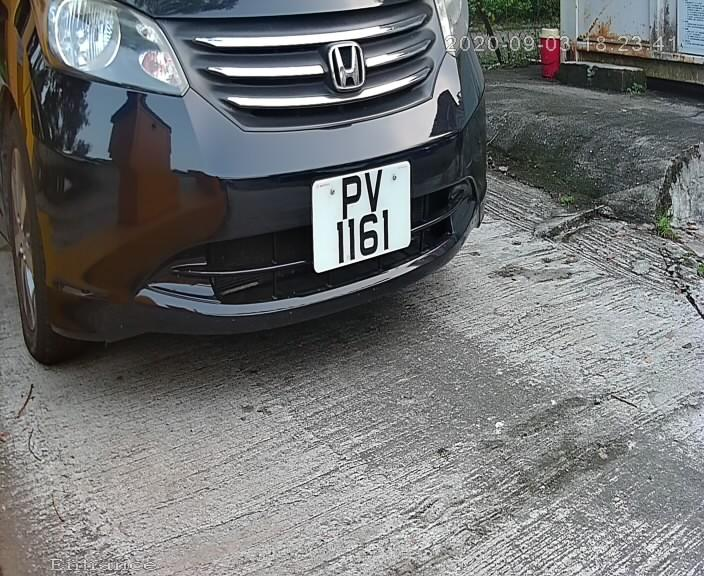License Plate: (302, 155, 419, 278)
